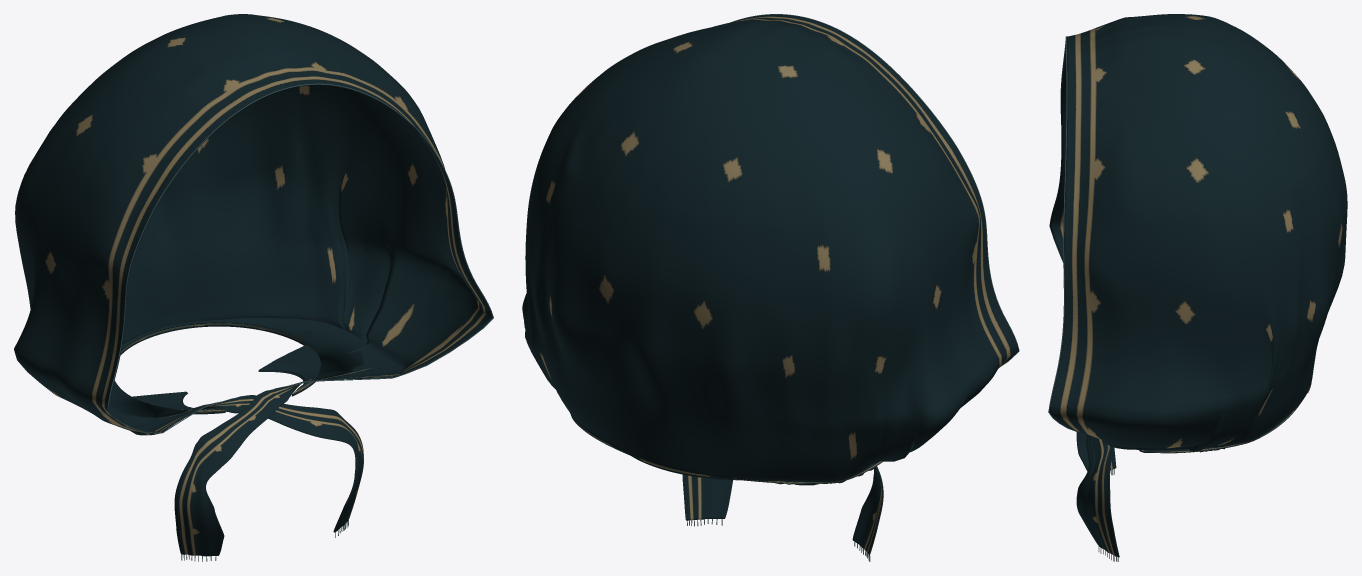
Rendered from Feminine-side-sweep-sweatshirt-pashmina249-headgear.glb.
3 views of the same model, side by side, from view 1: azimuth 30°, elevation 25°; view 2: azimuth 150°, elevation 25°; view 3: azimuth 270°, elevation 25° (orthographic). The views are drawn at different scales.
Parts seen in each view (by area): view 1: 226 headgear / Headwear / continuous woven pashmina239, 226 headgear / Headwear / face edge239; view 2: 226 headgear / Headwear / continuous woven pashmina239, 226 headgear / Headwear / face edge239; view 3: 226 headgear / Headwear / continuous woven pashmina239, 226 headgear / Headwear / face edge239.
Boxes of the visible parts, box(x1,y1,x2,y2) form: 226 headgear / Headwear / continuous woven pashmina239: box(14, 14, 493, 556); 226 headgear / Headwear / face edge239: box(107, 83, 493, 433); 226 headgear / Headwear / continuous woven pashmina239: box(522, 14, 1018, 555); 226 headgear / Headwear / face edge239: box(730, 14, 1019, 366); 226 headgear / Headwear / continuous woven pashmina239: box(1049, 14, 1347, 557); 226 headgear / Headwear / face edge239: box(1048, 36, 1078, 431).
Bounding box in the file's own units: 1.23 × 1.41 × 0.7777.
Materials: 3 (1 with a texture image).
